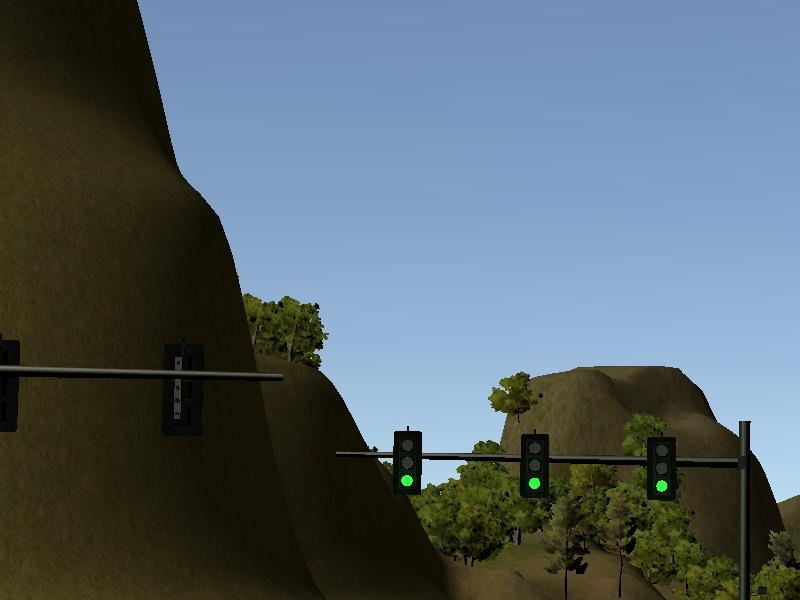Green: (649, 436, 676, 501), (393, 433, 422, 493), (521, 434, 549, 496)
